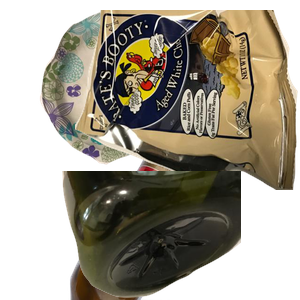glass: (67, 120, 282, 300)
paper: (37, 10, 219, 167)
plastic: (60, 171, 300, 300)
trash: (75, 10, 300, 190)
